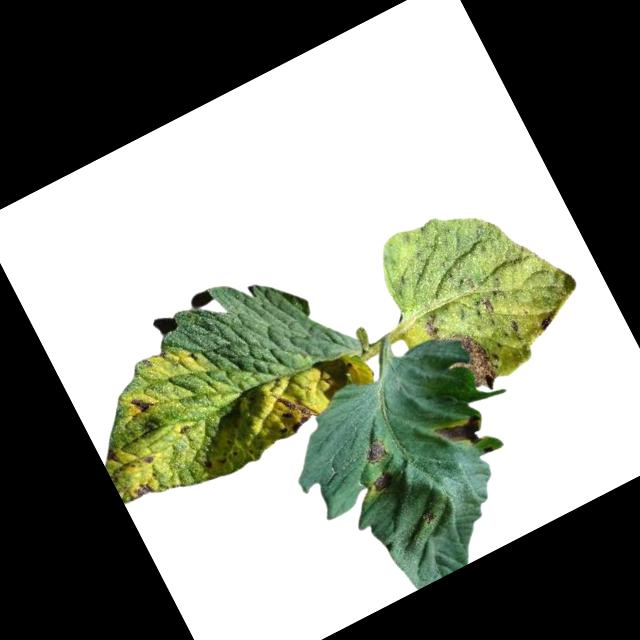Early_blight: (419, 297, 504, 403), (432, 407, 490, 459), (262, 385, 316, 439), (125, 387, 157, 419), (358, 434, 389, 466), (367, 467, 394, 494), (533, 309, 559, 334), (131, 479, 154, 501), (477, 295, 496, 318)
